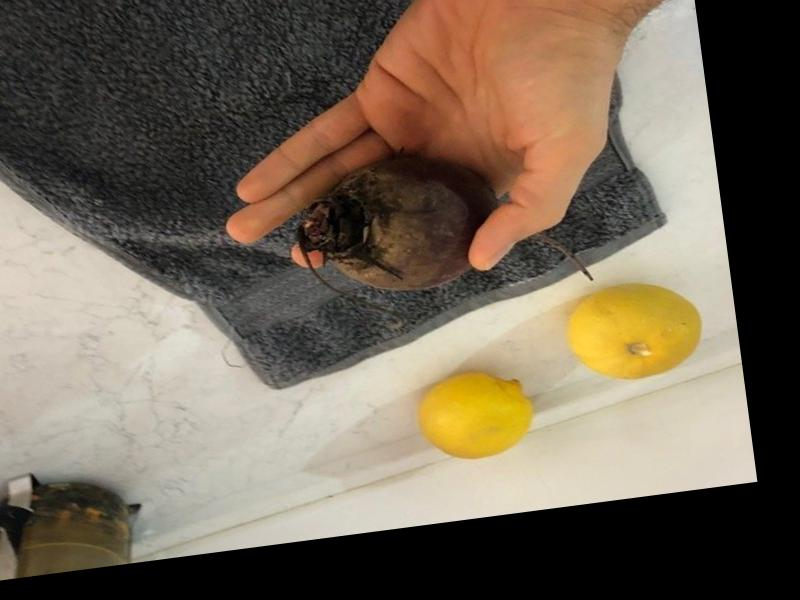Beet: (290, 133, 594, 317)
